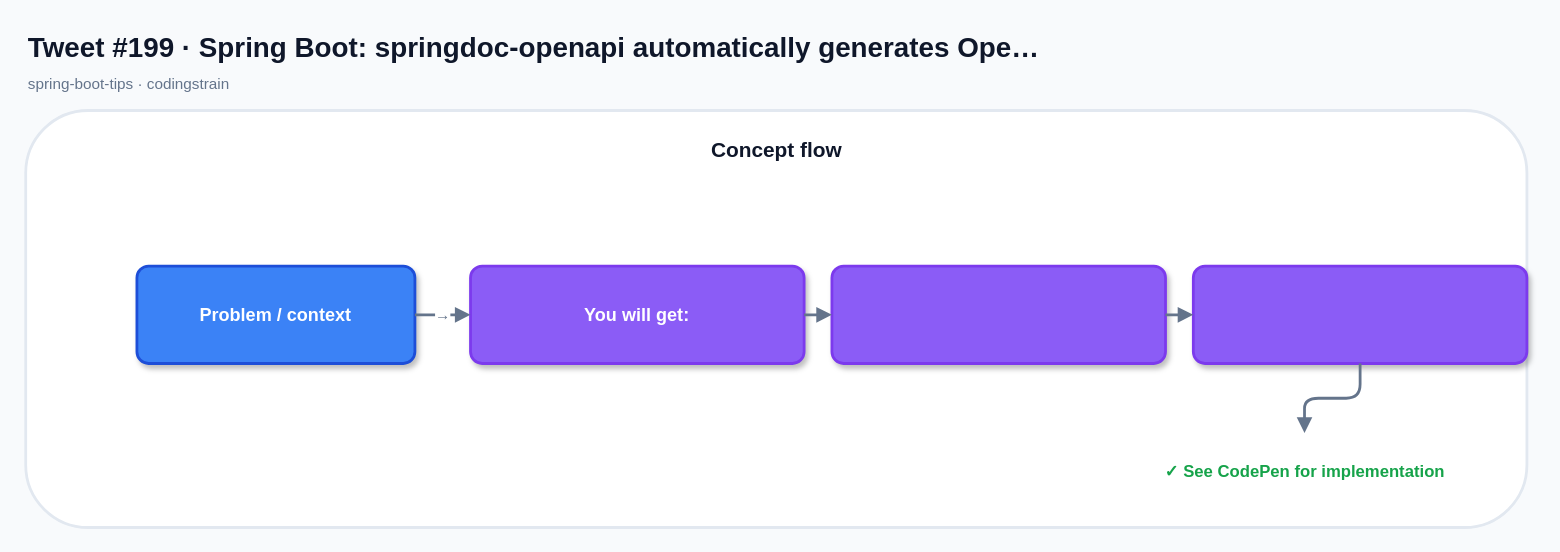
The diagram is 1560 pixels wide and 552 high, and some of its shapes have lost their labels. Here are the shapes that lost their labels. From the top down, the centre of each, then its label:
At (999,316): "An interactive Swagger UI".
At (1361,316): "Auto-scanned from your code".
